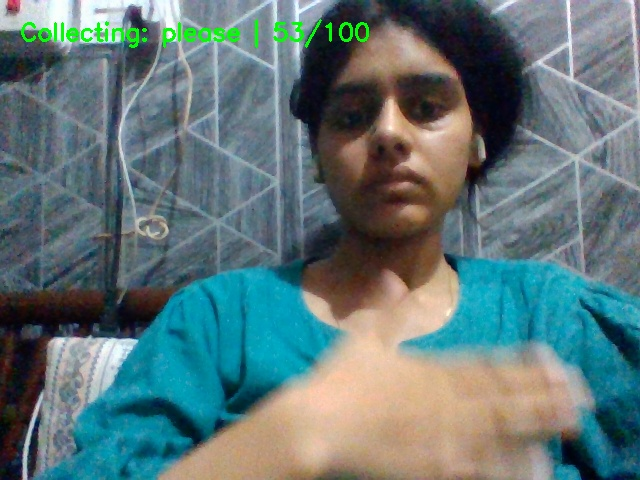please: (259, 263, 630, 480)
